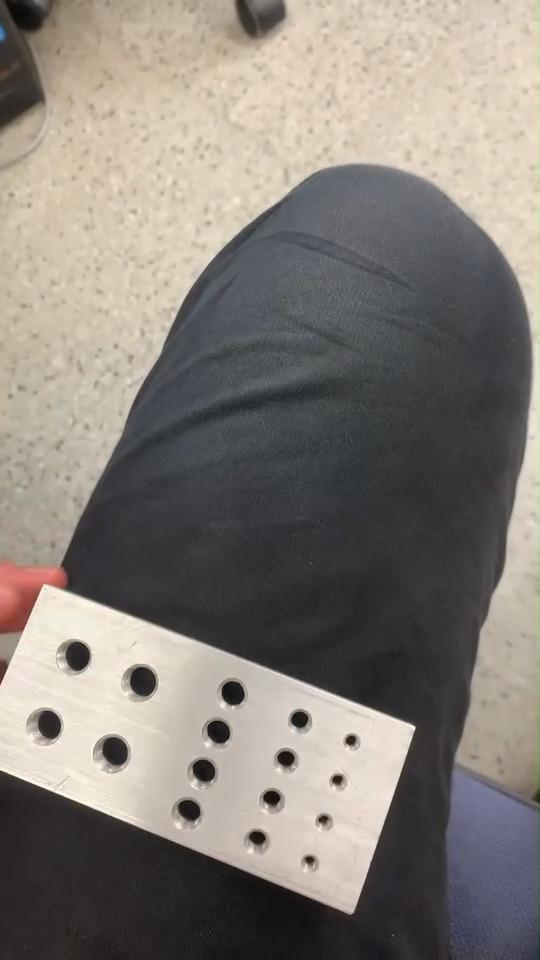hole: (92, 732, 134, 773), (52, 638, 94, 678), (24, 704, 64, 746), (120, 666, 159, 704), (169, 796, 206, 832), (184, 755, 220, 790), (214, 676, 248, 710), (200, 715, 235, 748), (256, 785, 286, 818), (270, 746, 301, 776), (284, 707, 314, 737), (241, 827, 272, 856), (314, 811, 336, 834), (326, 772, 348, 795), (342, 730, 363, 752), (300, 854, 320, 876)
